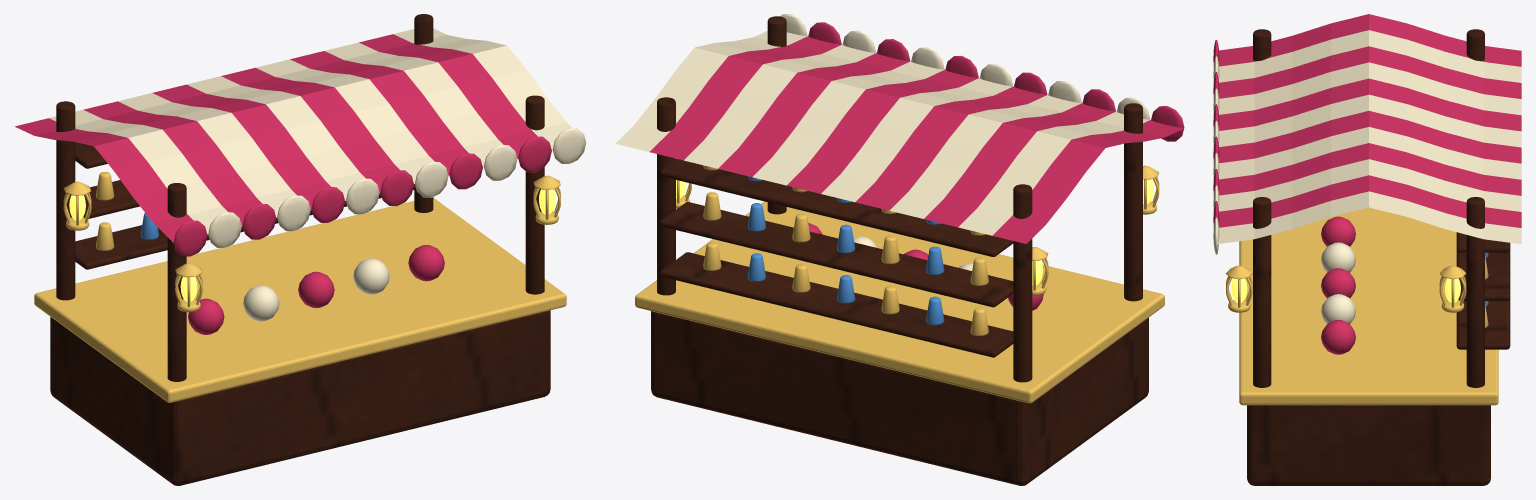
The model's file is market-stall.glb.
3 renders of one model, left to right at view 1: azimuth 30°, elevation 25°; view 2: azimuth 150°, elevation 25°; view 3: azimuth 270°, elevation 25°, orthographic. The views are drawn at different scales.
Parts seen in each view (by area): view 1: Counter, Counter slab, Striped textile canopy, Striped textile canopy.001, Amber glass; view 2: Counter, Counter slab, Striped textile canopy, Striped textile canopy.001, Potion bottle.001; view 3: Counter slab, Striped textile canopy, Striped textile canopy.001, Counter, Amber glass.
Boxes of the visible parts, left/top/right/bottom form: Counter: left=50, top=14, right=550, bottom=485; Counter slab: left=34, top=172, right=566, bottom=402; Striped textile canopy: left=15, top=34, right=551, bottom=334; Striped textile canopy.001: left=49, top=28, right=586, bottom=321; Amber glass: left=69, top=189, right=555, bottom=301; Counter: left=651, top=16, right=1148, bottom=485; Counter slab: left=635, top=165, right=1164, bottom=403; Striped textile canopy: left=649, top=22, right=1184, bottom=310; Striped textile canopy.001: left=615, top=14, right=1150, bottom=270; Potion bottle.001: left=747, top=176, right=944, bottom=325; Counter slab: left=1226, top=207, right=1498, bottom=405; Striped textile canopy: left=1213, top=14, right=1521, bottom=354; Striped textile canopy.001: left=1213, top=30, right=1521, bottom=323; Counter: left=1247, top=29, right=1510, bottom=485; Amber glass: left=1231, top=278, right=1460, bottom=302.
Bounding box in the file's own units: 6 × 4.18 × 4.04.
Materials: 6 (1 with a texture image).
